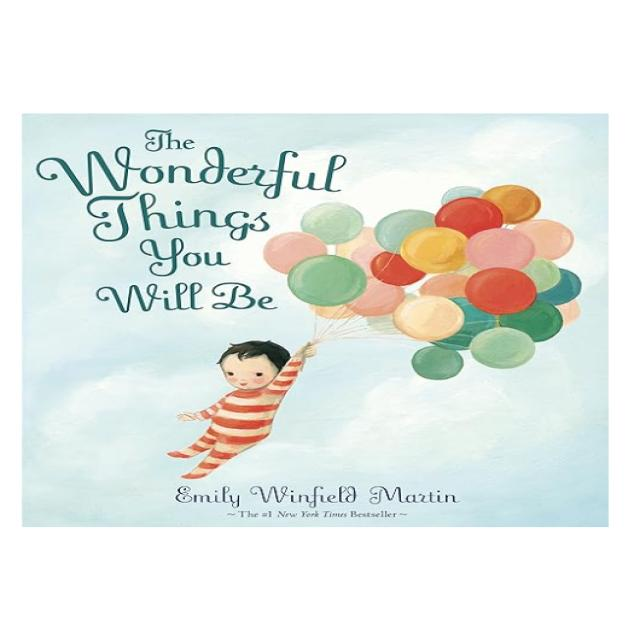titles-or-authors: (28, 119, 357, 321), (165, 481, 462, 506)
